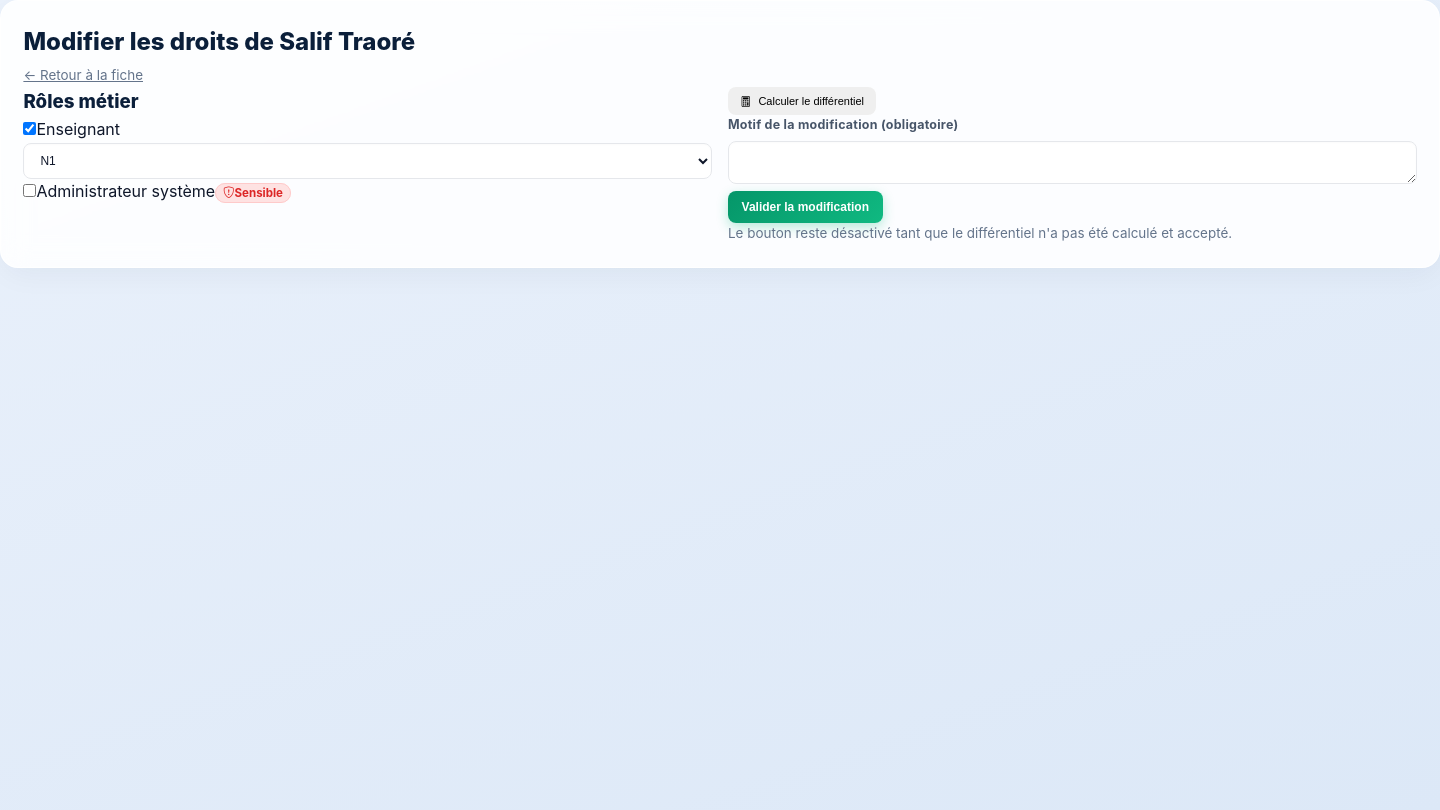
ModifierCompte — différentiel obligatoire avant validation › affiche le message renvoyé par l'API quand la simulation est refusée
Expected: the element with test id "ecran-modification" is shown, [0,0,1439,268]
Click the button with test id "bouton-calculer". click: {"x": 802, "y": 101}
box: [728,87,876,115]
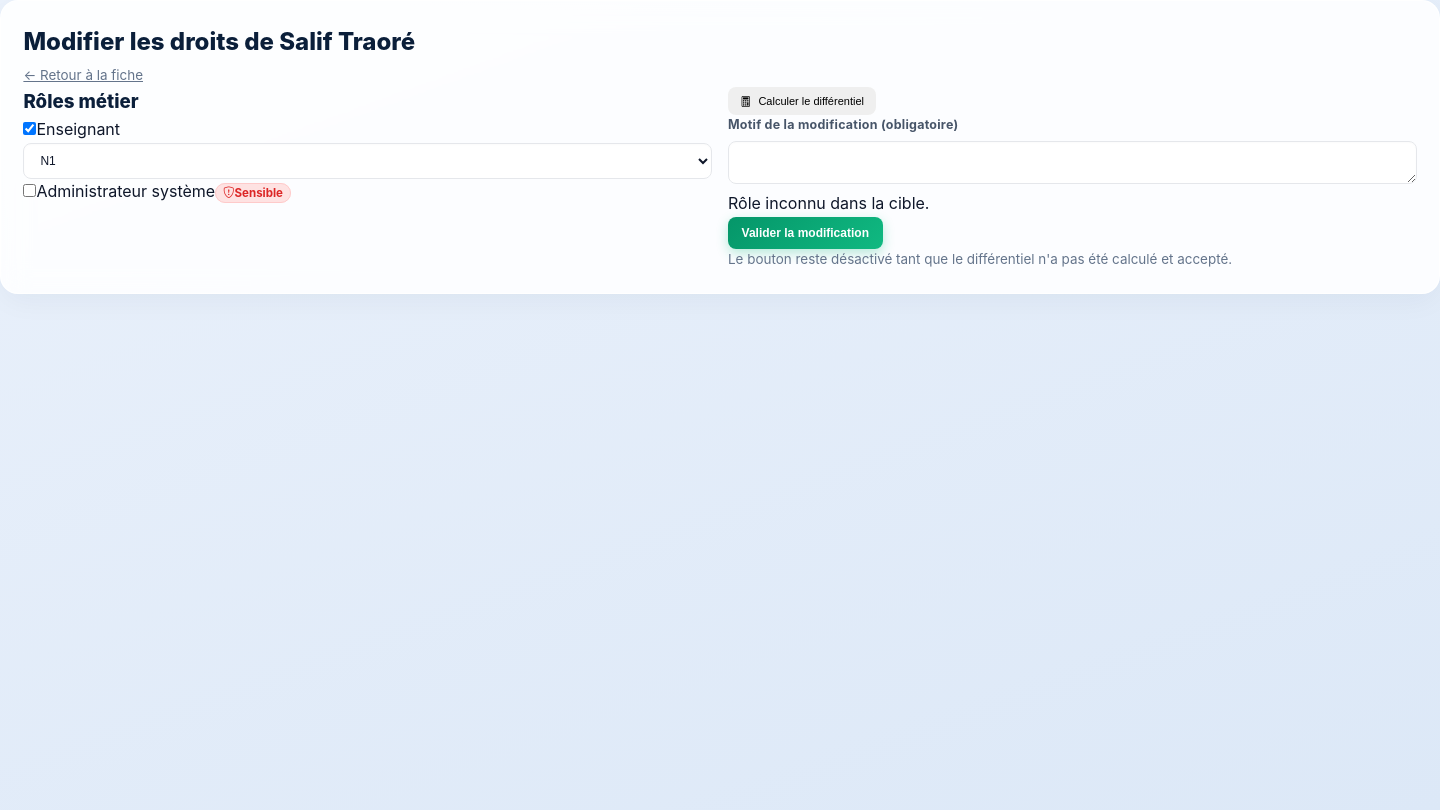
Now the text with test id "modif-erreur" shows "Rôle inconnu", box [728,193,930,213]
